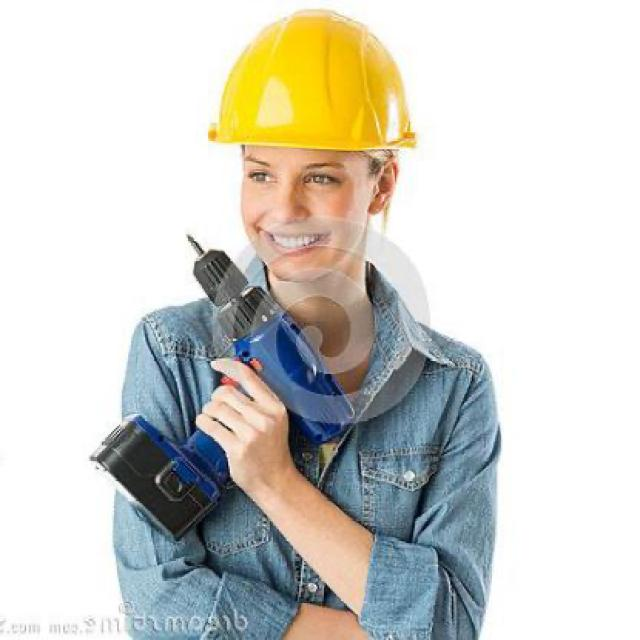con casco: (88, 0, 439, 280)
